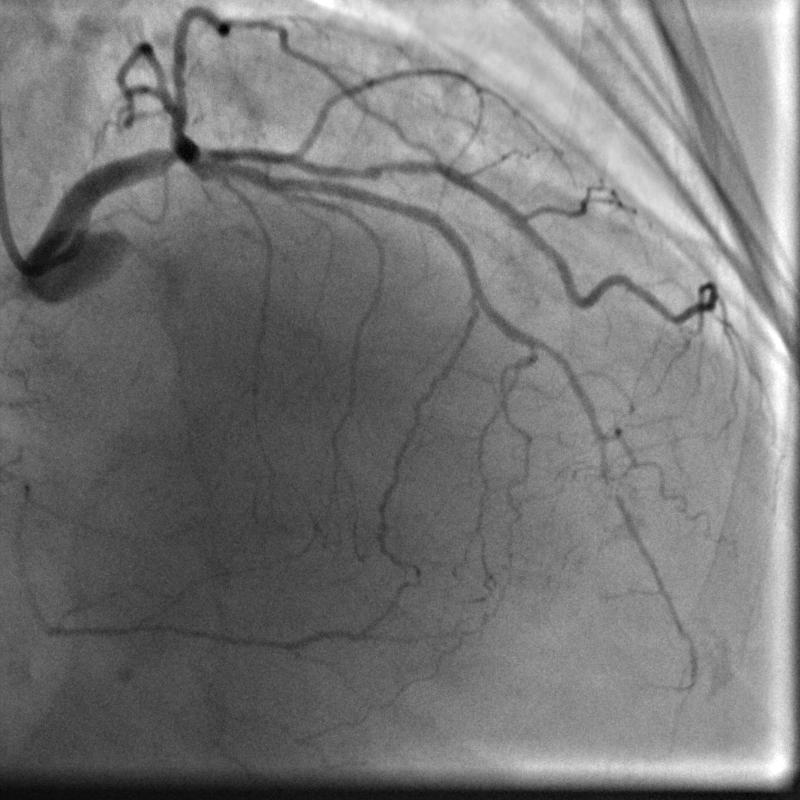Stenosis: (335, 153, 423, 186)
